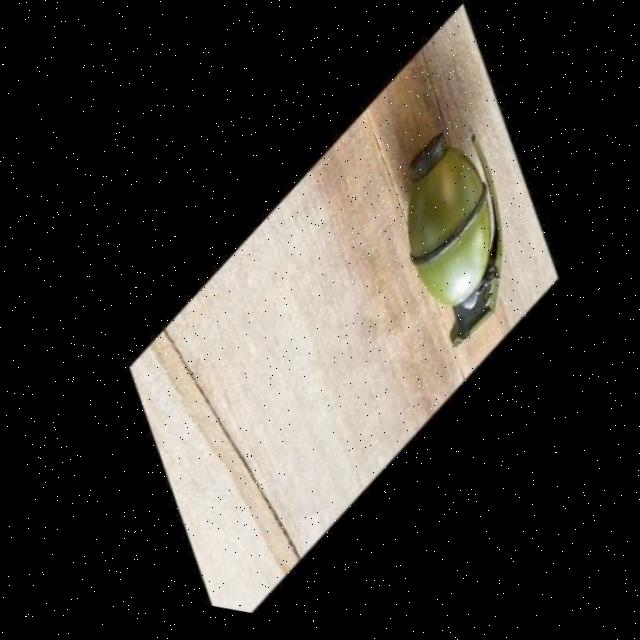grenade: (363, 124, 532, 359)
